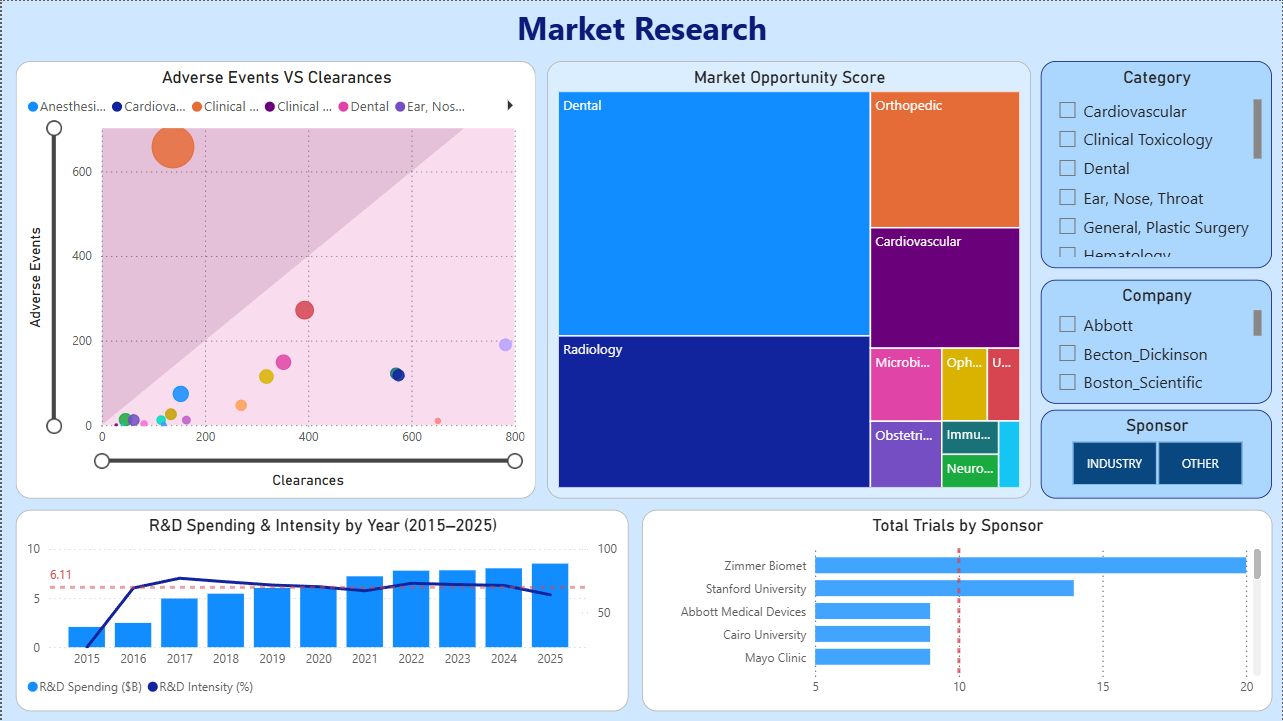

What the dashboard file says about the page in this screenshot:
{"tool":"powerbi","page":{"name":"Page 1","canvas":[1280,720],"ordinal":0},"visuals":[{"type":"scatterChart","title":"Adverse Events VS Clearances","fields":{"X":["Sum(riskVSmarket.clearances)"],"Y":["Sum(riskVSmarket.adverse_events)"],"Series":["riskVSmarket.category"],"Size":["Sum(riskVSmarket.risk_ratio)"]},"box":[13.8,60,520,437.5],"z":0},{"type":"lineClusteredColumnComboChart","title":"R&D Spending & Intensity by Year (2015–2025)","fields":{"Category":["rndVSrevenue.year"],"Y":["Sum(rndVSrevenue.rd_spending_bn)"],"Y2":["Sum(rndVSrevenue.rd_intensity_pct)"]},"box":[13.8,508.8,612.5,201.2],"z":1000},{"type":"treemap","title":"Market Opportunity Score","fields":{"Group":["MarketScore.category"],"Values":["Sum(MarketScore.opportunity_score)"]},"box":[545,60,483.8,437.5],"z":2000},{"type":"clusteredBarChart","title":"Total Trials by Sponsor","fields":{"Category":["top_companies.sponsor"],"Y":["Sum(top_companies.total_trials)"]},"box":[640,508.8,630,201.2],"z":3000},{"type":"slicer","title":"Sponsor","fields":{"Values":["top_companies.sponsor_class"]},"box":[1038.8,408.8,231.2,88.8],"z":4000},{"type":"slicer","title":"Category","fields":{"Values":["MarketScore.category"]},"box":[1038.8,60,231.2,207.5],"z":5000},{"type":"slicer","title":"Company","fields":{"Values":["rndVSrevenue.company"]},"box":[1038.8,278.8,231.2,123.8],"z":6000},{"type":"textbox","box":[490,0,300,60],"z":7000}]}

Visuals, with their boxes in screenshot pixels (x1, y1, x2, y2), scaled from the page's 1280x720 canvas onto the 1283x721 screenshot:
"Adverse Events VS Clearances" scatterChart: (14, 60, 535, 498)
"R&D Spending & Intensity by Year (2015–2025)" lineClusteredColumnComboChart: (14, 510, 628, 711)
"Market Opportunity Score" treemap: (546, 60, 1031, 498)
"Total Trials by Sponsor" clusteredBarChart: (642, 510, 1273, 711)
"Sponsor" slicer: (1041, 409, 1273, 498)
"Category" slicer: (1041, 60, 1273, 268)
"Company" slicer: (1041, 279, 1273, 403)
textbox: (491, 0, 792, 60)
